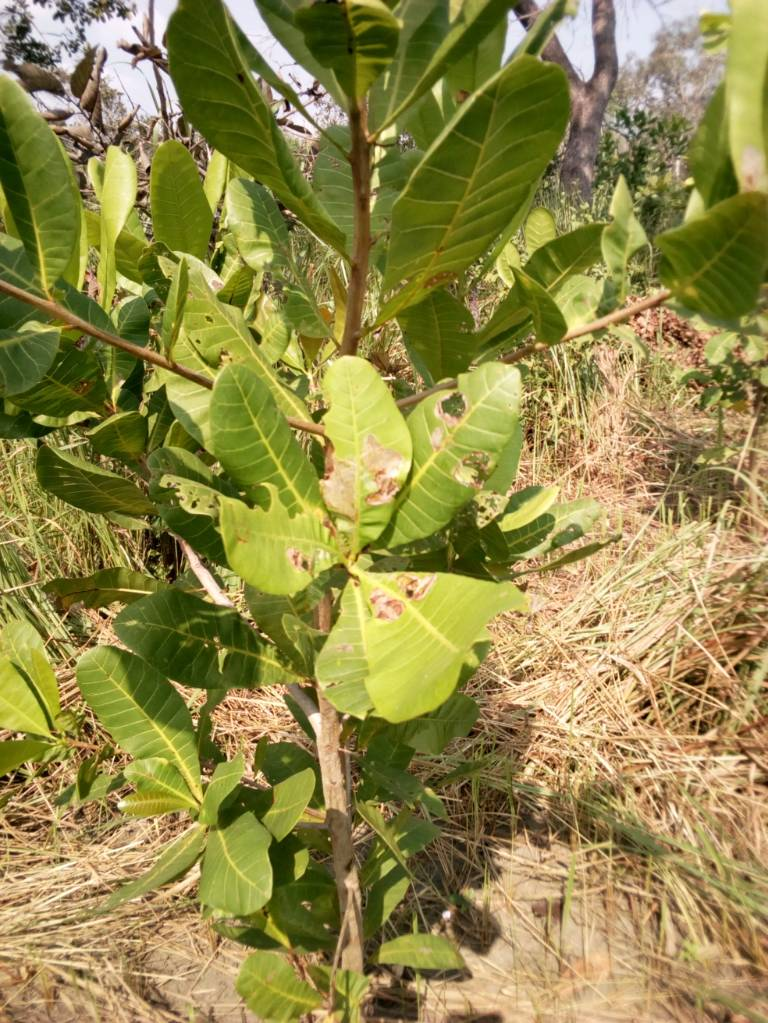Dysdercus wolkerii: (304, 358, 413, 566)
